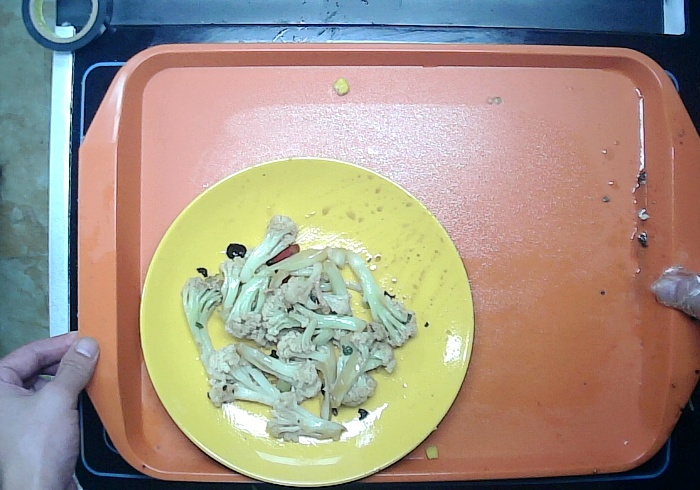HZYJPL-Huang_Se_Yuan_Pan: (133, 148, 486, 490)
